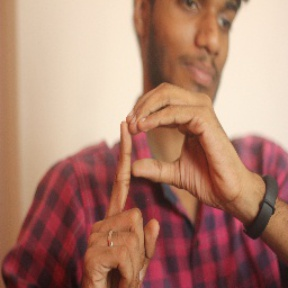P: (89, 81, 244, 276)
